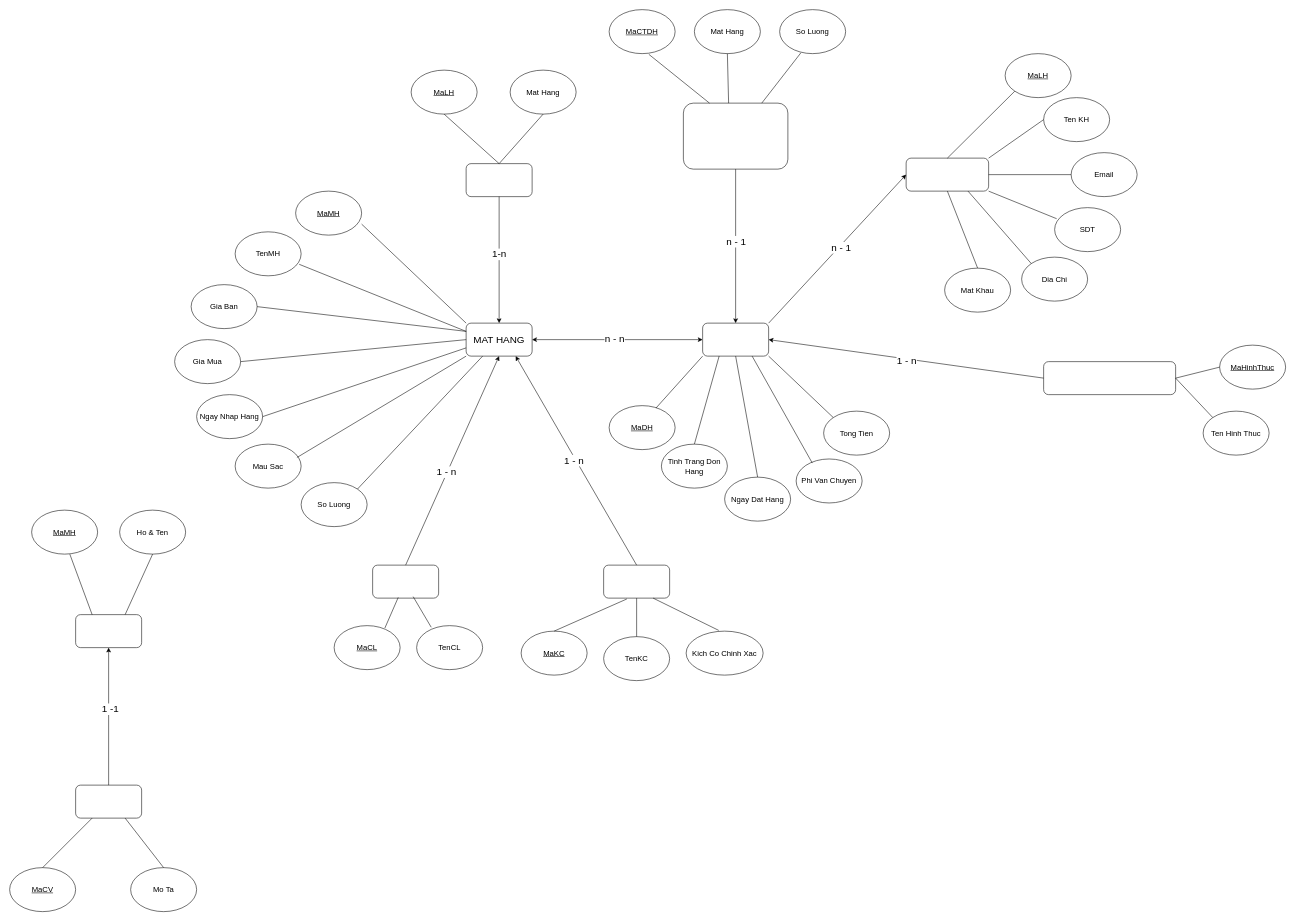
The diagram is 1295 pixels wide and 921 high, and some of its shapes have lost their labels. The box of each missing label's shape, as (x1, y1, x2, y2) in pixels:
CHAT LIEU: (372, 565, 439, 598)
CHI TIET DON HANG: (683, 103, 788, 169)
CHUC VU: (75, 785, 142, 818)
DON HANG: (702, 323, 769, 356)
HINH THUC THANH TOAN: (1043, 361, 1176, 395)
KHACH HANG: (906, 158, 989, 191)
KICH CO: (603, 565, 670, 598)
LOAI HANG: (466, 163, 532, 197)
NHAN VIEN: (75, 614, 142, 648)
